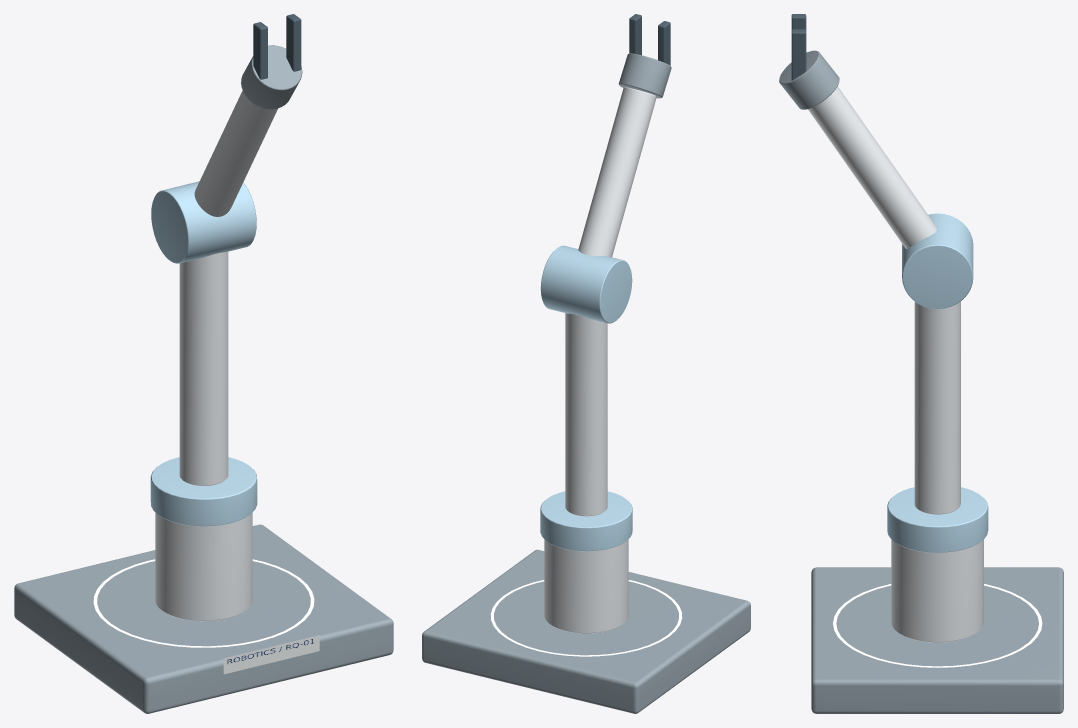
Rendered from robotic_arm.glb.
3 views of the same model, side by side, from view 1: azimuth 30°, elevation 25°; view 2: azimuth 150°, elevation 25°; view 3: azimuth 270°, elevation 25° (orthographic). The views are drawn at different scales.
Parts seen in each view (by area): view 1: Arm_Base, Upper_Arm, Arm_Pedestal, Elbow_Collar, Yaw_Collar, Forearm, Wrist_Housing, Arm_Base_Tag, Robot_Base_Status, Gripper_Finger1, Gripper_Finger-1; view 2: Arm_Base, Upper_Arm, Arm_Pedestal, Forearm, Elbow_Collar, Yaw_Collar, Wrist_Housing, Robot_Base_Status, Gripper_Finger-1; view 3: Arm_Base, Upper_Arm, Arm_Pedestal, Forearm, Elbow_Collar, Yaw_Collar, Wrist_Housing, Robot_Base_Status, Gripper_Finger1.
Part boxes in pixels (x1,y1,x2,y2): Arm_Base: (14, 524, 393, 713); Upper_Arm: (179, 251, 228, 485); Arm_Pedestal: (155, 512, 252, 621); Elbow_Collar: (151, 181, 256, 263); Yaw_Collar: (150, 457, 257, 526); Forearm: (194, 90, 277, 216); Wrist_Housing: (241, 45, 302, 109); Arm_Base_Tag: (223, 635, 319, 674); Robot_Base_Status: (93, 559, 314, 647); Gripper_Finger1: (286, 14, 301, 71); Gripper_Finger-1: (253, 22, 267, 79); Arm_Base: (422, 549, 750, 713); Upper_Arm: (565, 313, 607, 516); Arm_Pedestal: (544, 539, 628, 633); Forearm: (578, 87, 656, 257); Elbow_Collar: (540, 245, 632, 323); Yaw_Collar: (540, 491, 632, 551); Wrist_Housing: (618, 53, 671, 98); Robot_Base_Status: (490, 580, 682, 656); Gripper_Finger-1: (658, 21, 670, 65); Arm_Base: (811, 567, 1063, 713); Upper_Arm: (914, 301, 960, 514); Arm_Pedestal: (891, 539, 983, 642); Forearm: (808, 86, 937, 248); Elbow_Collar: (902, 213, 973, 309); Yaw_Collar: (887, 487, 988, 552); Wrist_Housing: (779, 50, 839, 109); Robot_Base_Status: (833, 584, 1042, 667); Gripper_Finger1: (791, 29, 806, 80).
Size of the model in its own units: 0.65 by 1.66 by 0.6771.
Materials: 7 (1 with a texture image).
